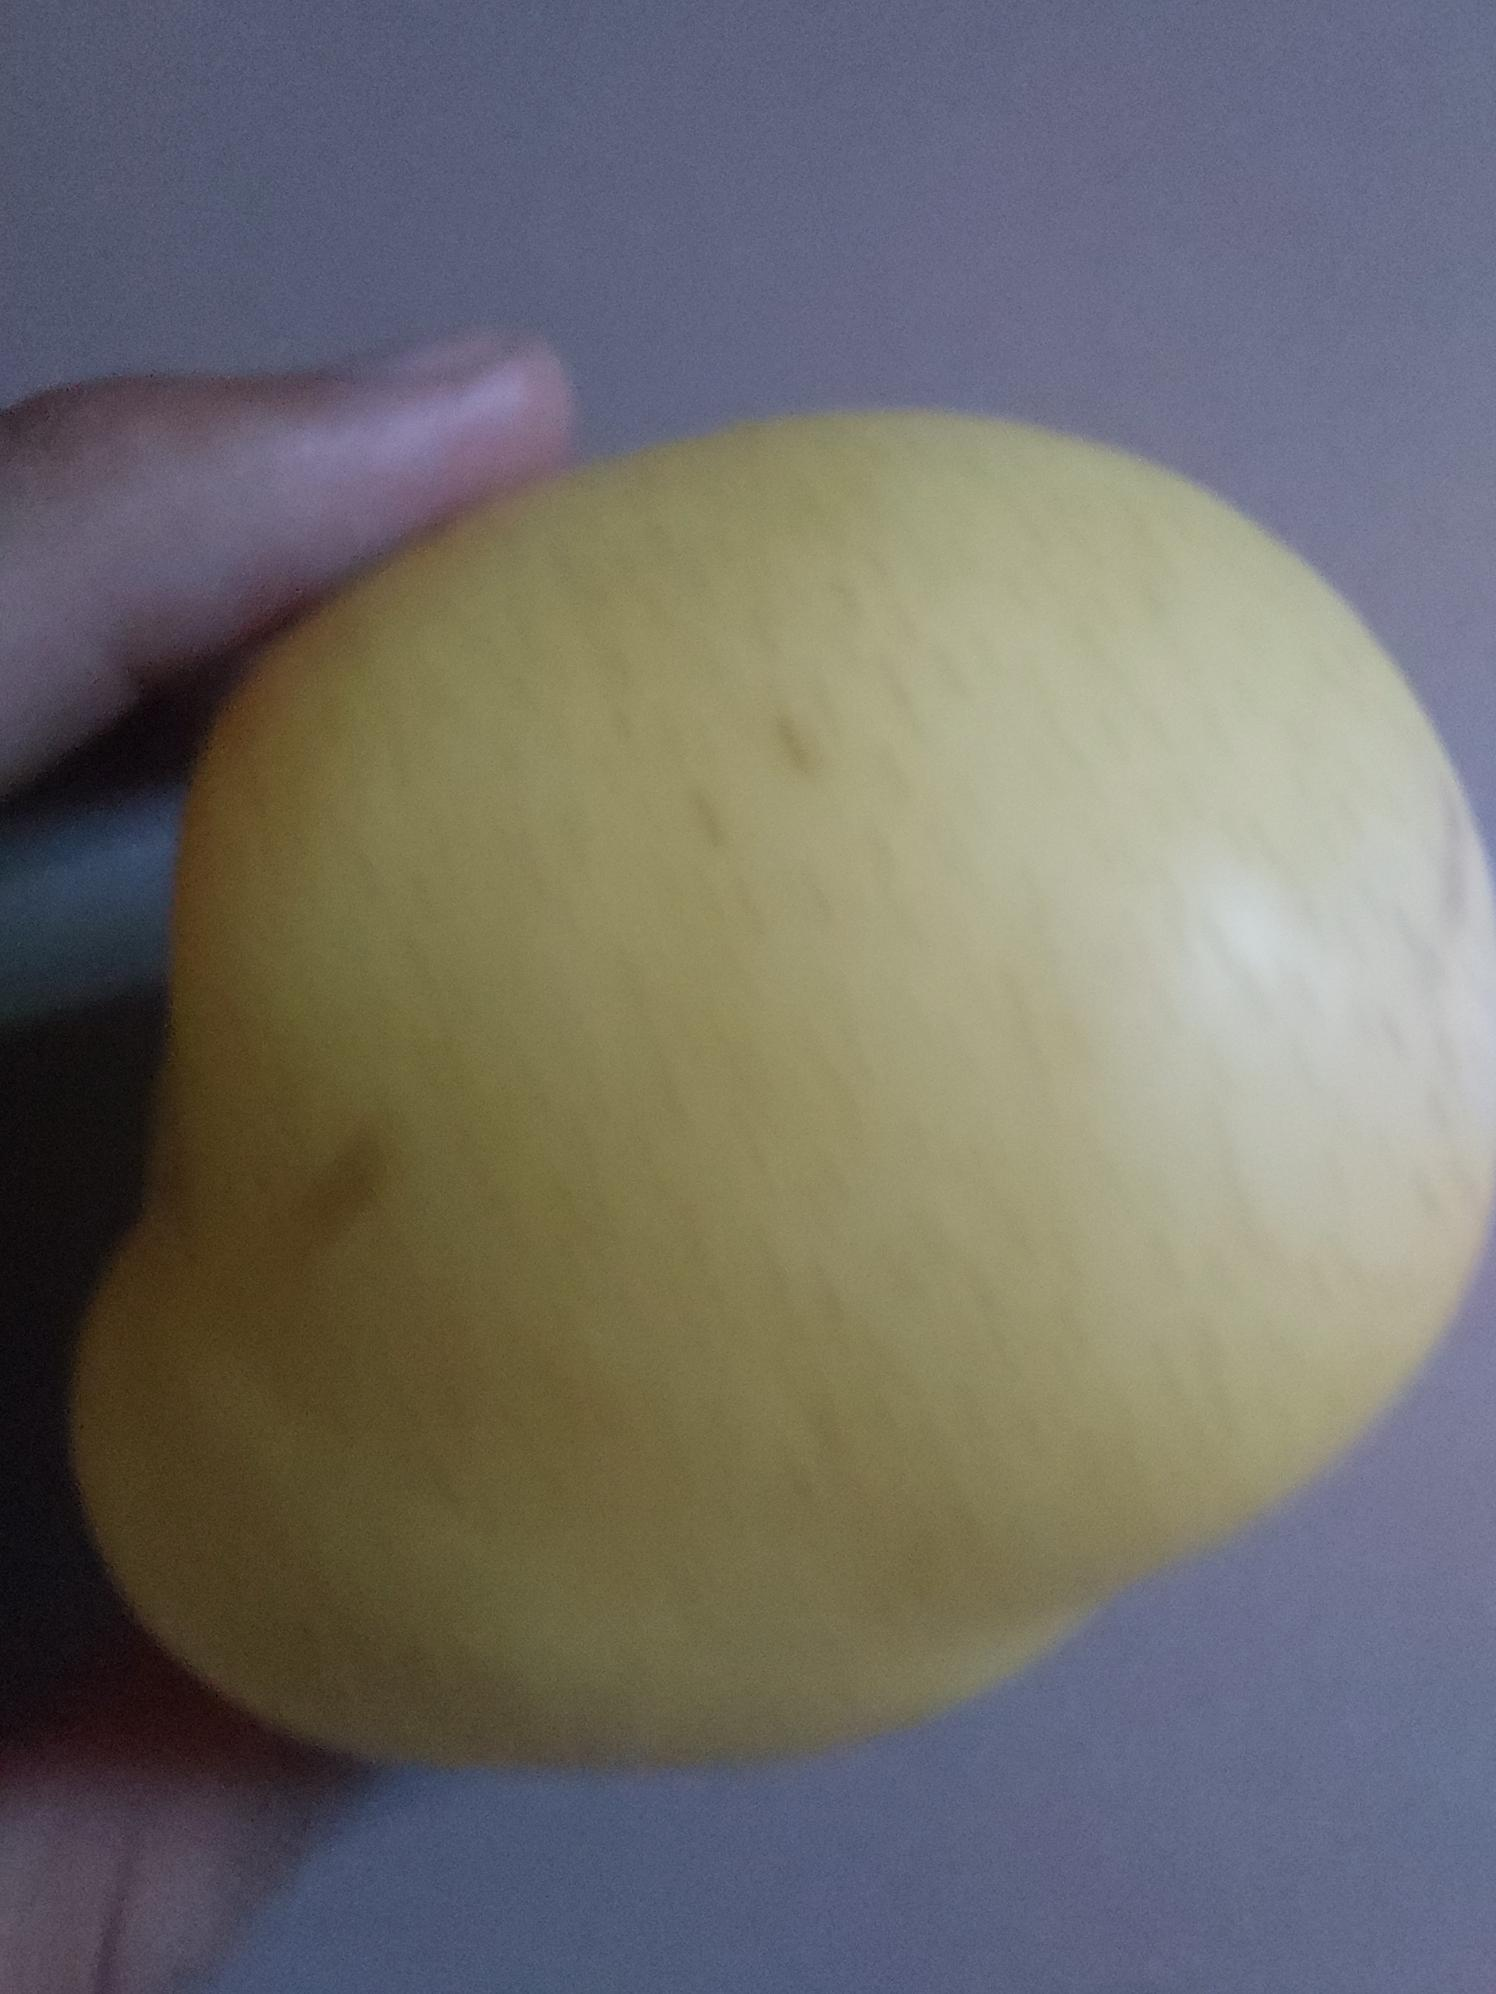Good Pear: (562, 422, 1496, 1760)
